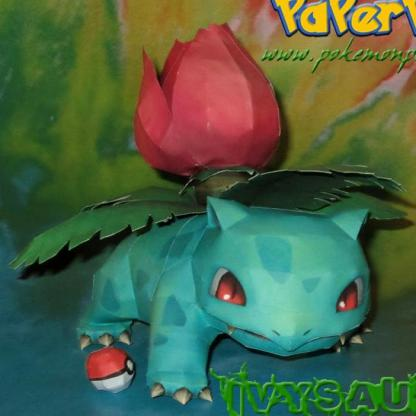Ivysaur: (20, 42, 402, 385)
